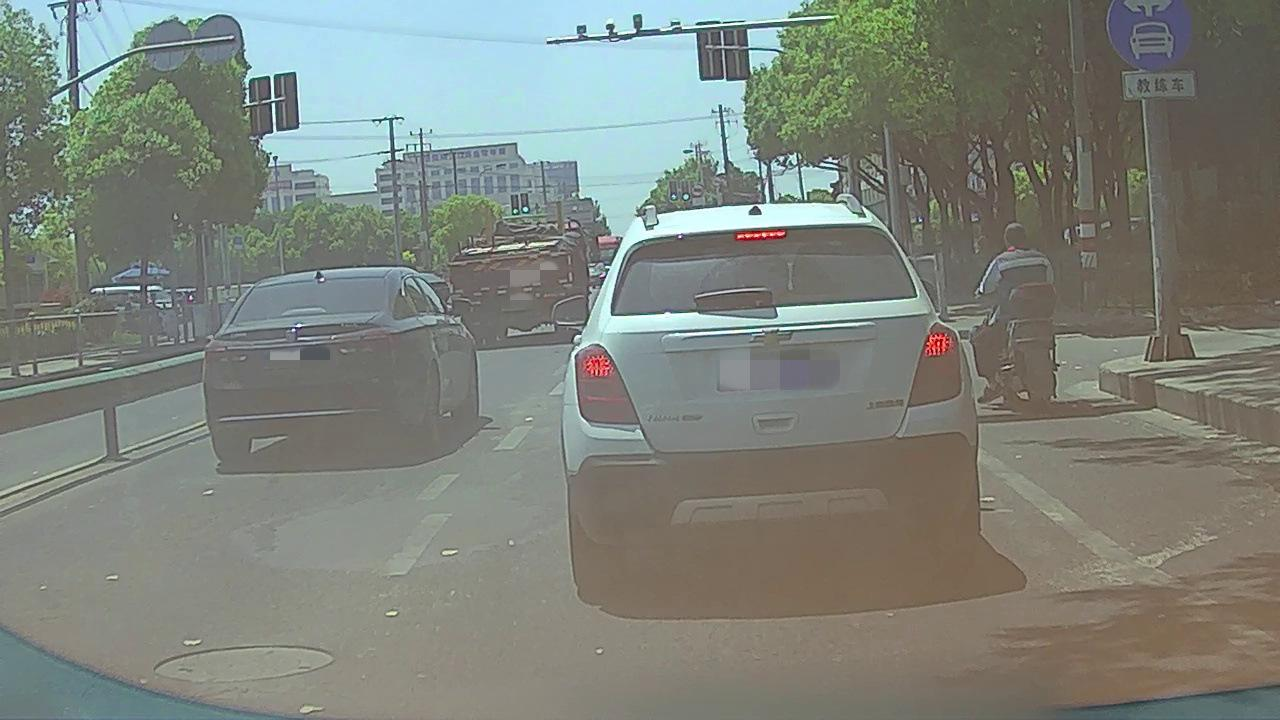traffic_light: (511, 195, 519, 215), (521, 193, 529, 213), (671, 181, 678, 200), (683, 181, 690, 200)
